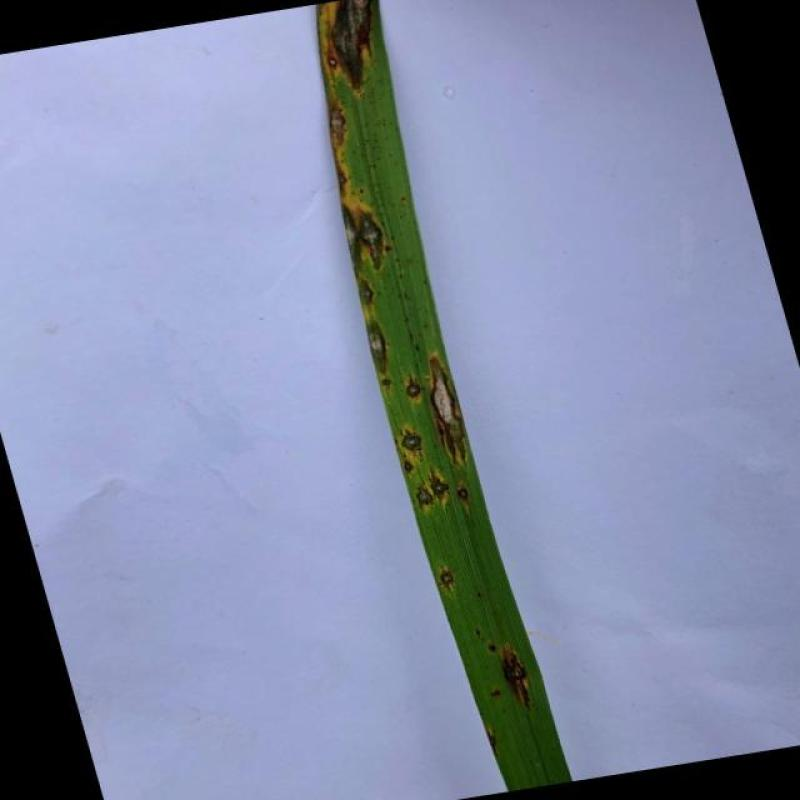Leaf_Blast: (328, 0, 378, 98), (428, 351, 470, 466), (359, 207, 390, 274), (343, 205, 365, 276), (326, 95, 350, 154), (368, 319, 392, 371), (425, 466, 451, 510), (400, 428, 426, 460), (438, 560, 456, 591), (359, 279, 375, 311), (415, 485, 435, 510), (405, 378, 423, 401), (455, 483, 470, 505), (400, 458, 418, 474), (326, 52, 339, 70), (381, 376, 394, 388)
